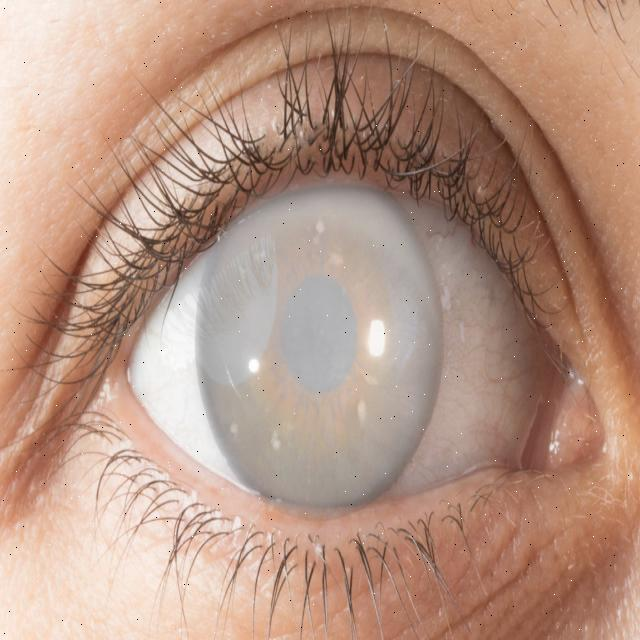Cataract: (194, 147, 442, 522)
